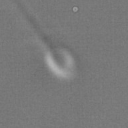normal: (14, 1, 55, 52)
